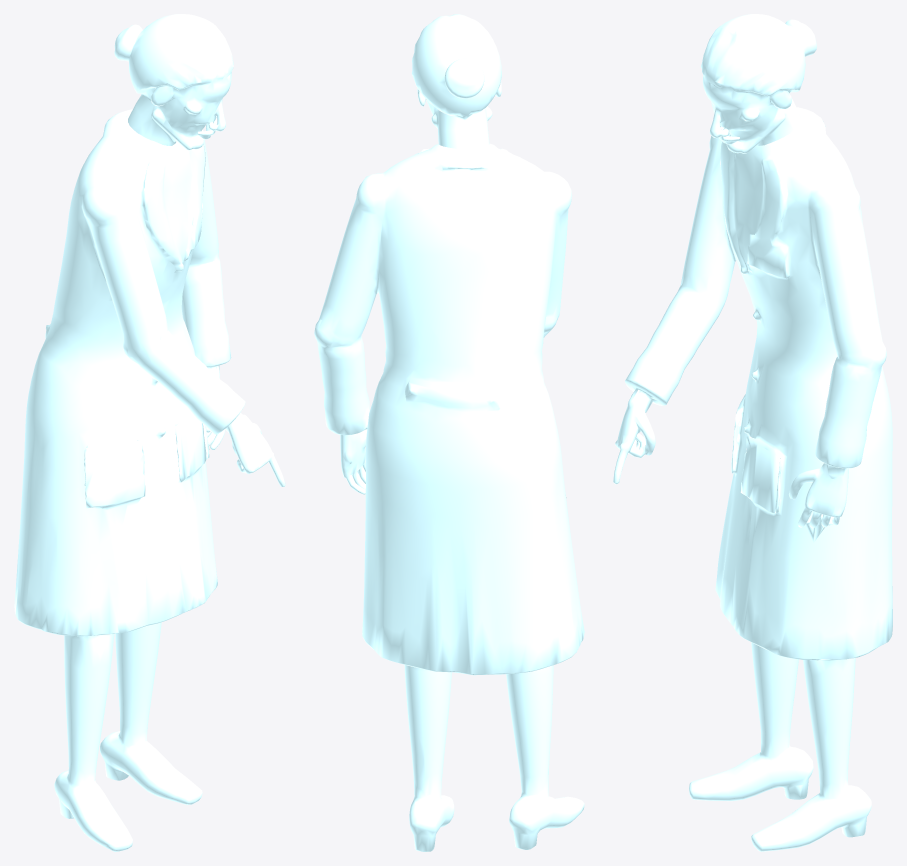
Rendered from echo_leyla_standing.glb.
3 views of the same model, side by side, from view 1: azimuth 30°, elevation 25°; view 2: azimuth 150°, elevation 25°; view 3: azimuth 270°, elevation 25° (orthographic). The views are drawn at different scales.
Parts seen in each view (by area): view 1: echo_body, echo_head; view 2: echo_body, echo_head; view 3: echo_body, echo_head.
Boxes of the visible parts, <box> form: echo_body: <box>14,109,285,851</box>; echo_head: <box>114,14,233,150</box>; echo_body: <box>314,143,584,851</box>; echo_head: <box>411,14,501,148</box>; echo_body: <box>613,107,892,851</box>; echo_head: <box>701,14,816,153</box>.
Bounding box in the file's own units: 0.4981 × 1.66 × 0.5103.
